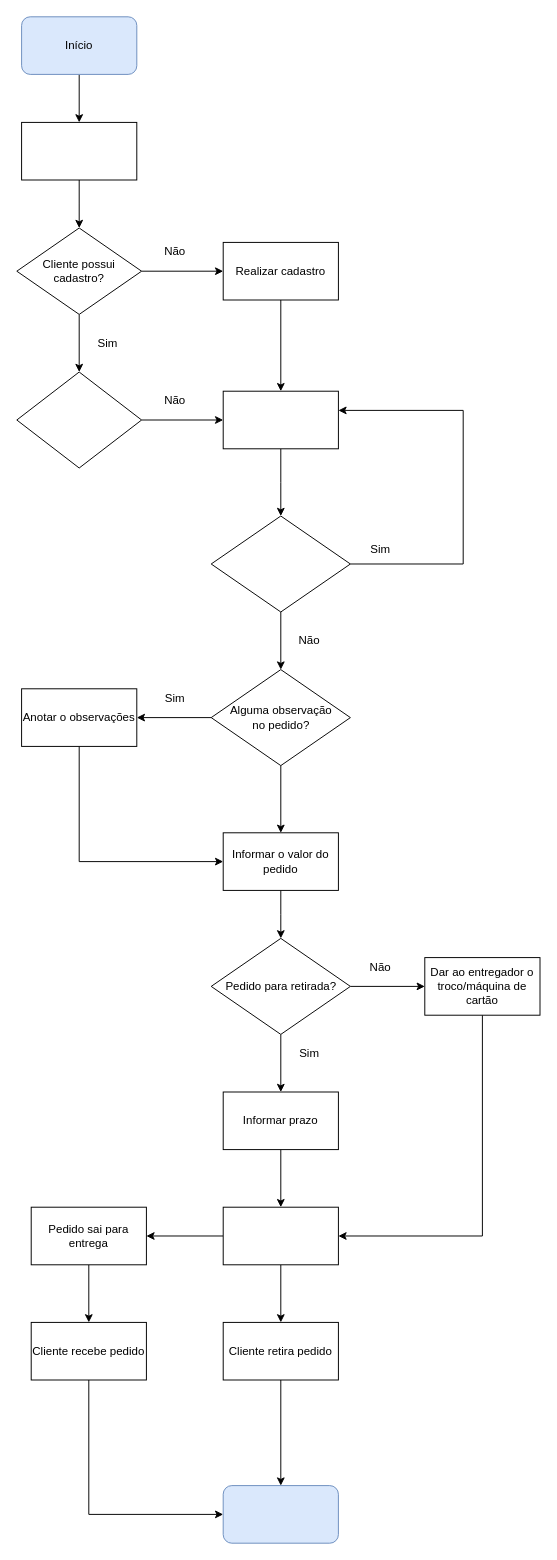
This 557x1560 diagram has some shape labels left out. The shapes that lost their labels are listed below. From the top down, each one's centre as x and y in pixels, then its label:
the point at 79,150: Ligar para Pizzaria
the point at 79,419: Deseja fazer o mesmo pedido anterior?
the point at 280,419: Escolher itens
the point at 280,563: Deseja escolher mais Itens?
the point at 280,1235: Pedido pronto
the point at 280,1514: Fim
